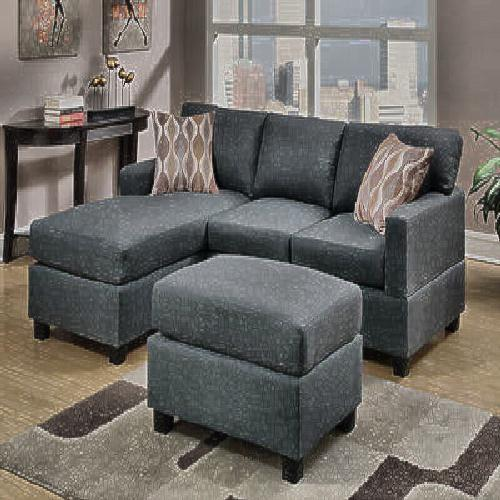sofa: (50, 106, 460, 445)
